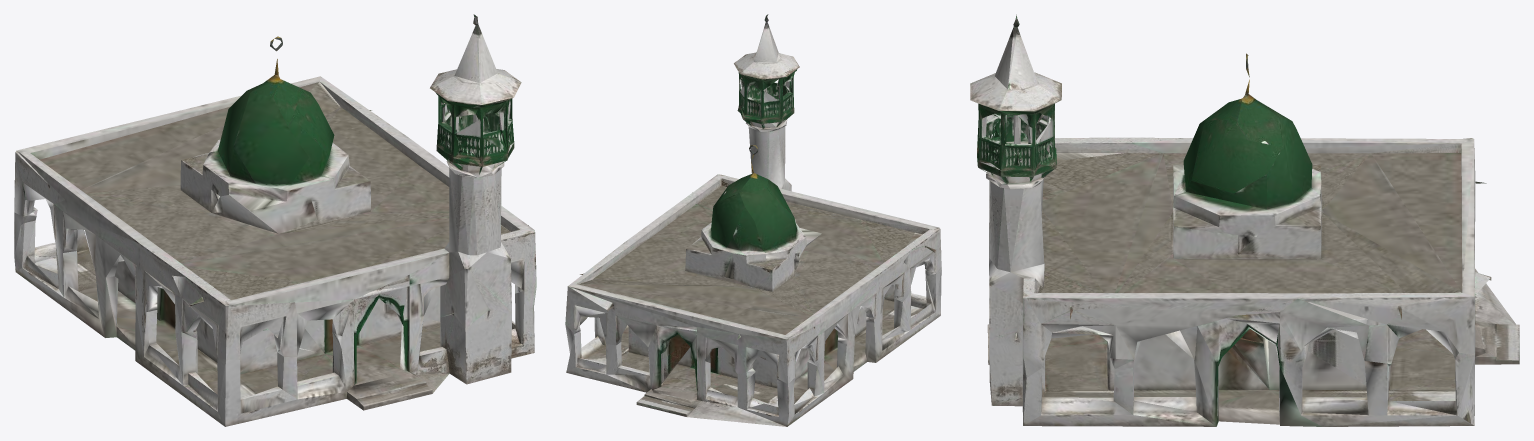
File: mosque.glb
The picture shows the model from 3 angles, left to right: view 1: azimuth 30°, elevation 25°; view 2: azimuth 150°, elevation 25°; view 3: azimuth 270°, elevation 25°; orthographic projection. The views are drawn at different scales.
Bounding box in the file's own units: 1.44 × 1.45 × 1.9.
1 material, 1 textured.
